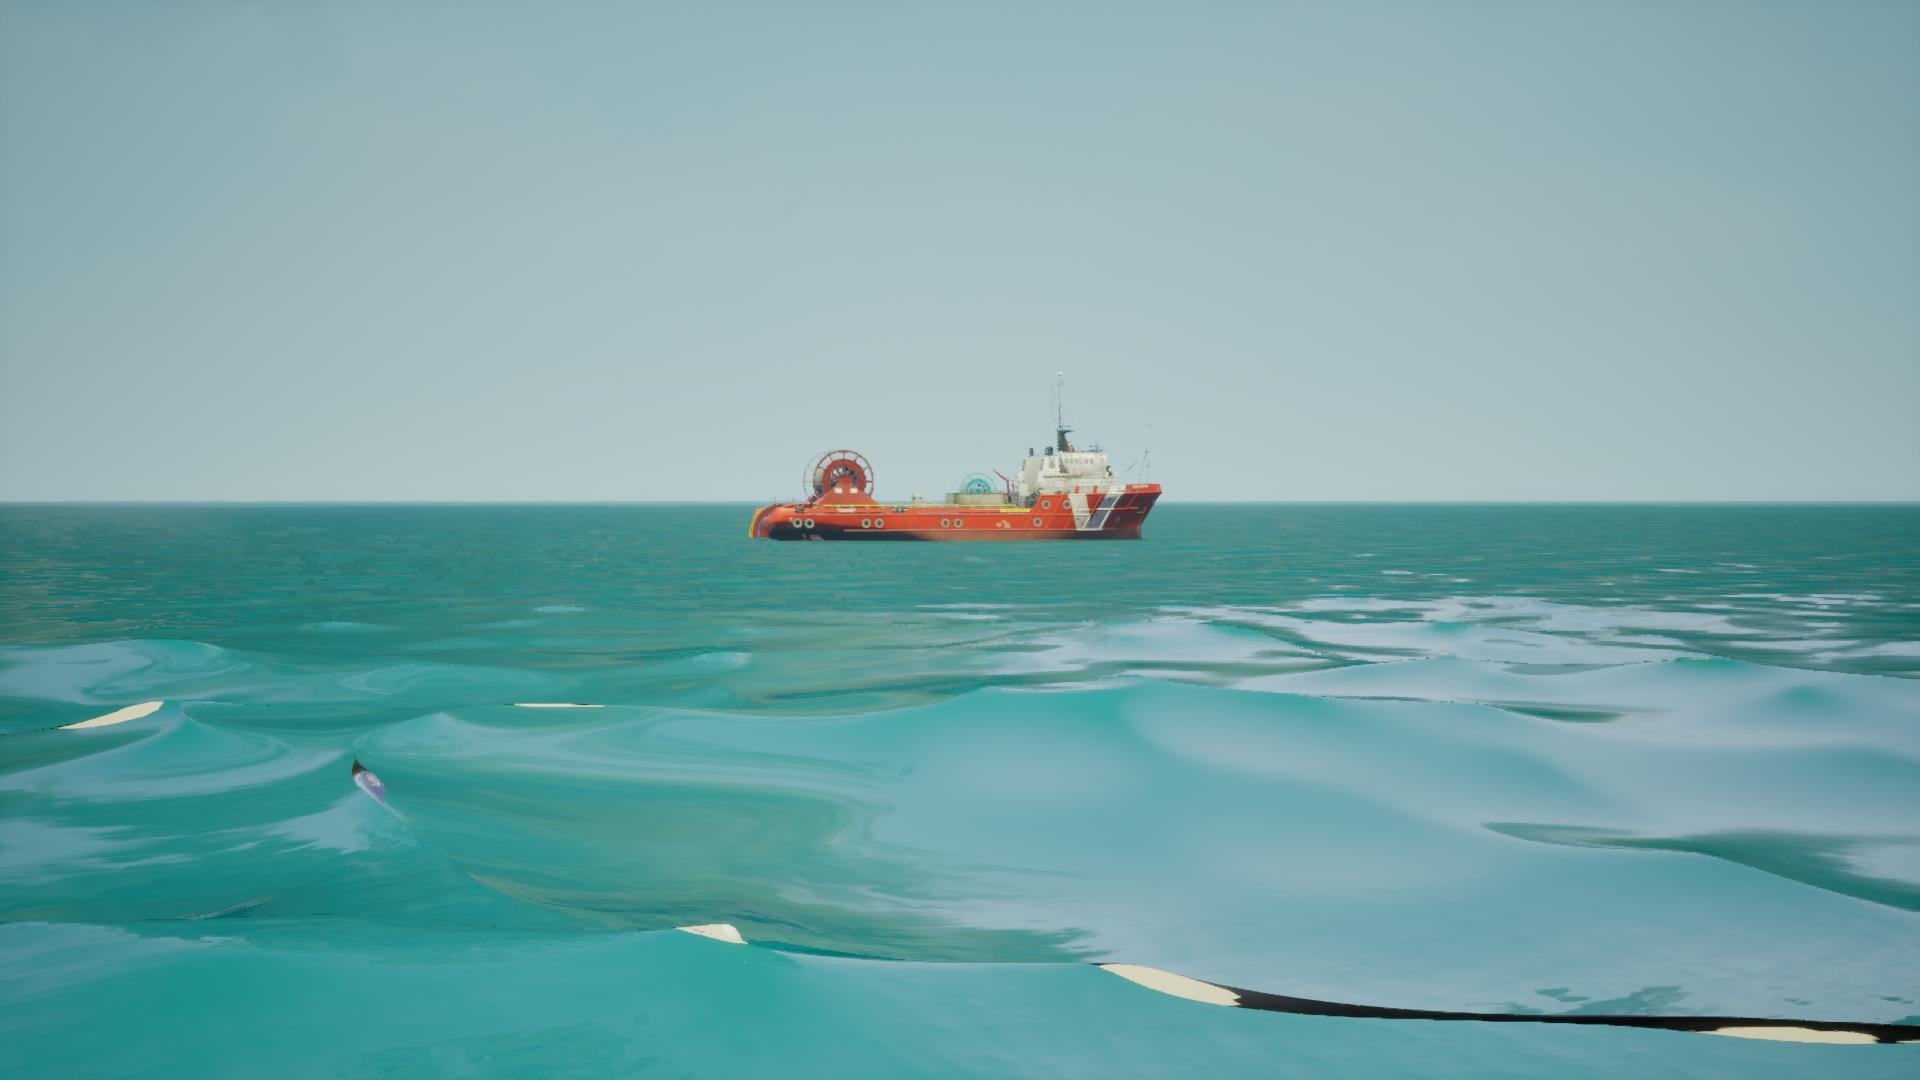Tug Boat: (750, 372, 1167, 546)
